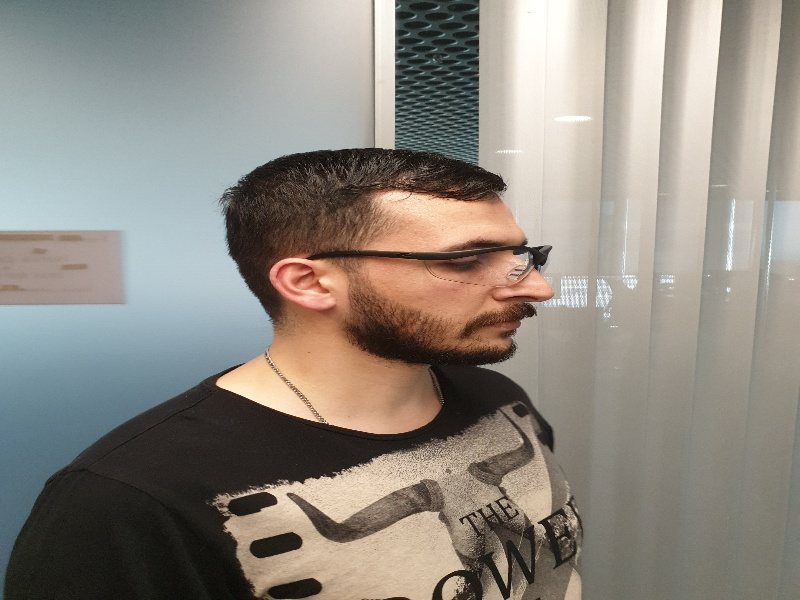Gozluk: (313, 244, 556, 288)
